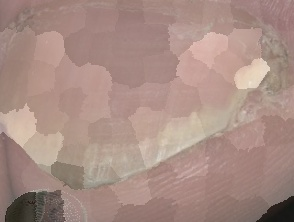Nail_psoriasis: (0, 0, 294, 203)
